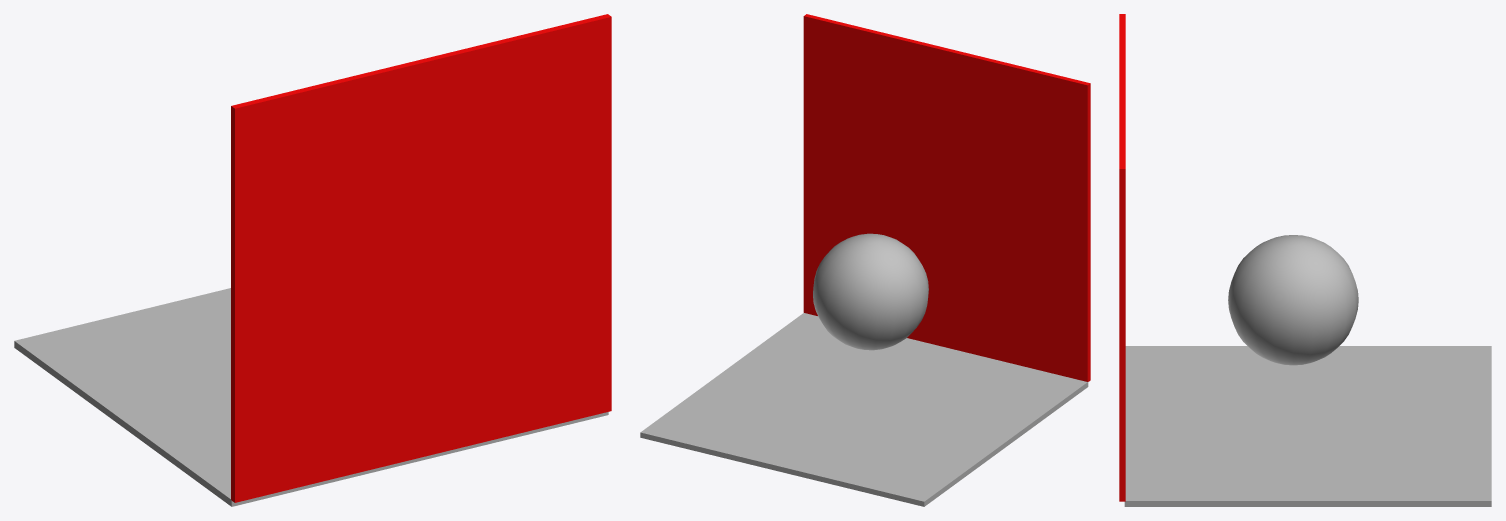
File: 2PlaneBall.gltf
The picture shows the model from 3 angles, left to right: view 1: azimuth 30°, elevation 25°; view 2: azimuth 150°, elevation 25°; view 3: azimuth 270°, elevation 25°; orthographic projection. The views are drawn at different scales.
Visible parts, largest first — view 1: pCube4, pCube1; view 2: pCube4, pCube1, pSphere1; view 3: pCube1, pSphere1, pCube4.
Part boxes in pixels (x1=…): pCube4: x1=231, y1=14, x2=611, y2=502; pCube1: x1=14, y1=288, x2=608, y2=506; pCube4: x1=803, y1=14, x2=1090, y2=381; pCube1: x1=640, y1=313, x2=1088, y2=506; pSphere1: x1=813, y1=233, x2=928, y2=350; pCube1: x1=1124, y1=346, x2=1491, y2=506; pSphere1: x1=1228, y1=235, x2=1358, y2=365; pCube4: x1=1119, y1=14, x2=1125, y2=501.
Size of the model in its own units: 10.35 by 10.52 by 10.5.
